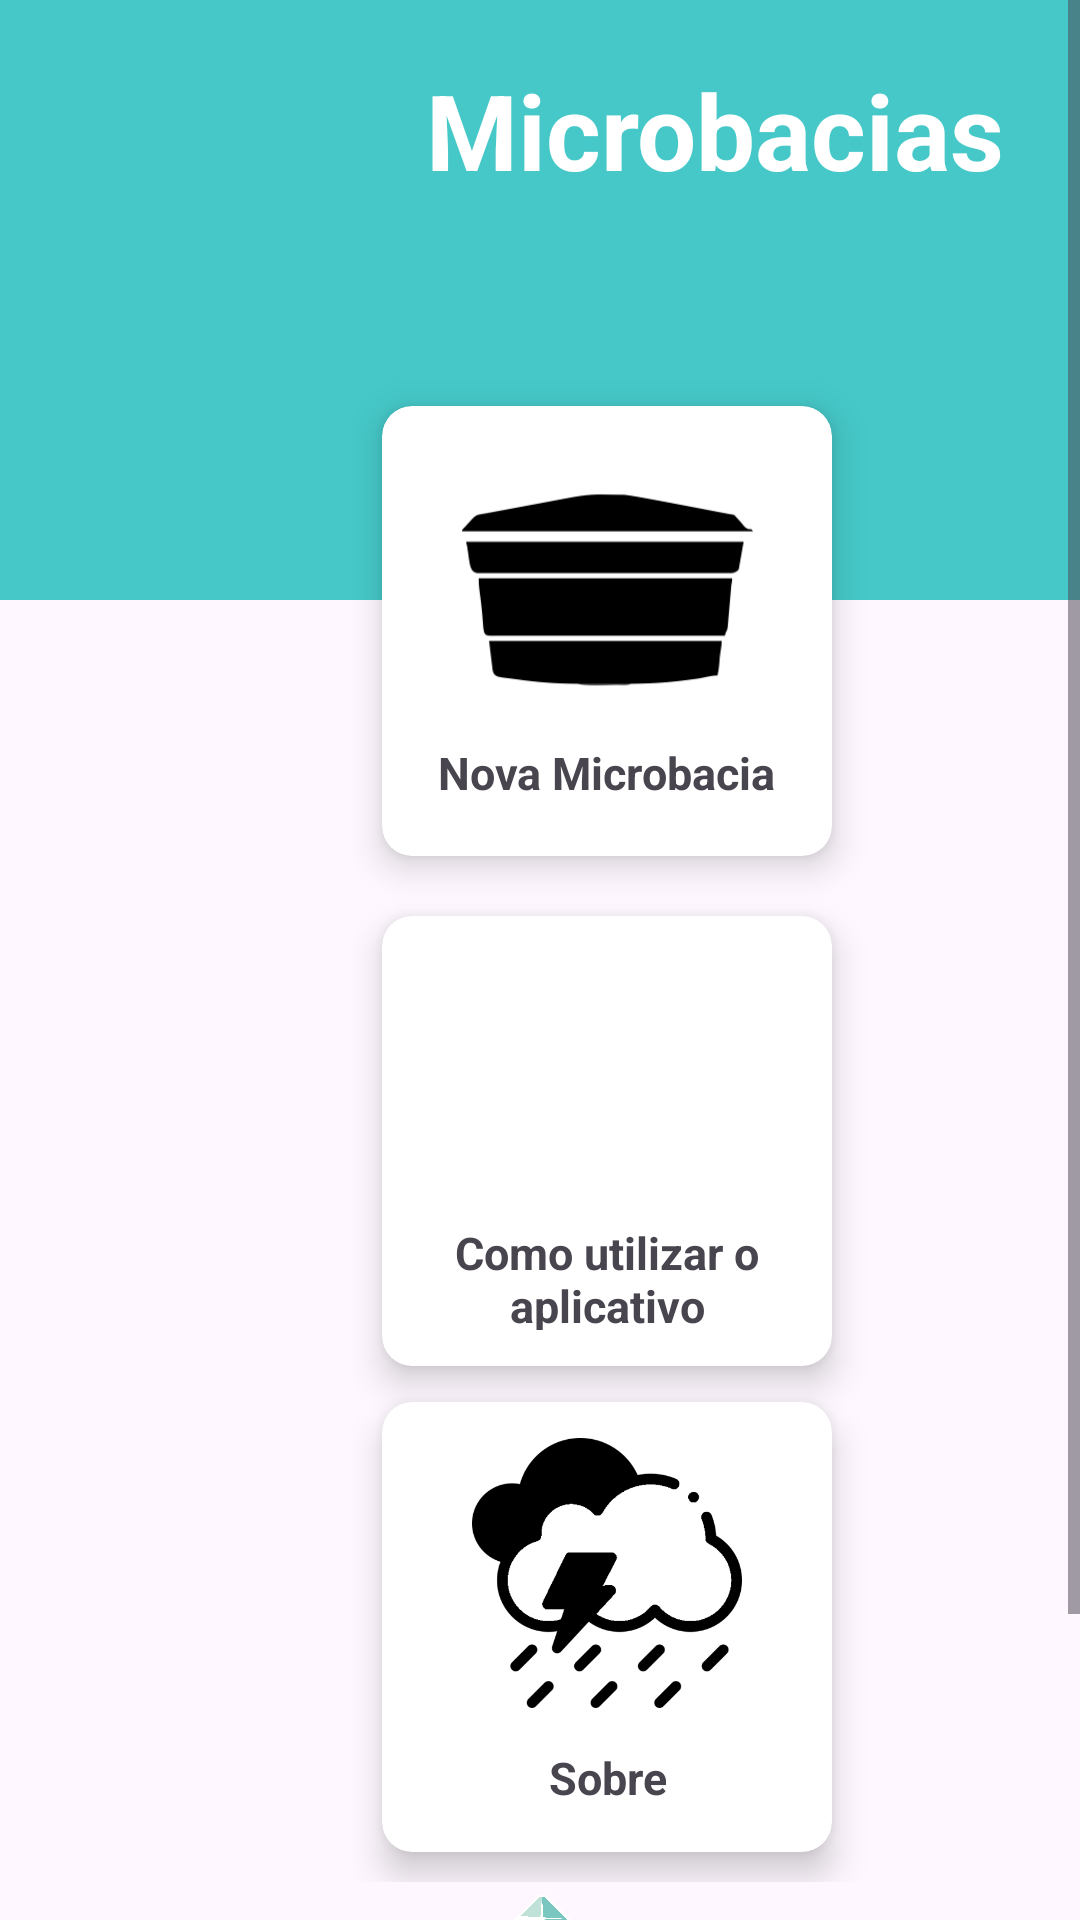

Screen size 1080w x 1920h. Icon name, then its center in pixels as [x,y]:
chuvaicon: [607,1573]
